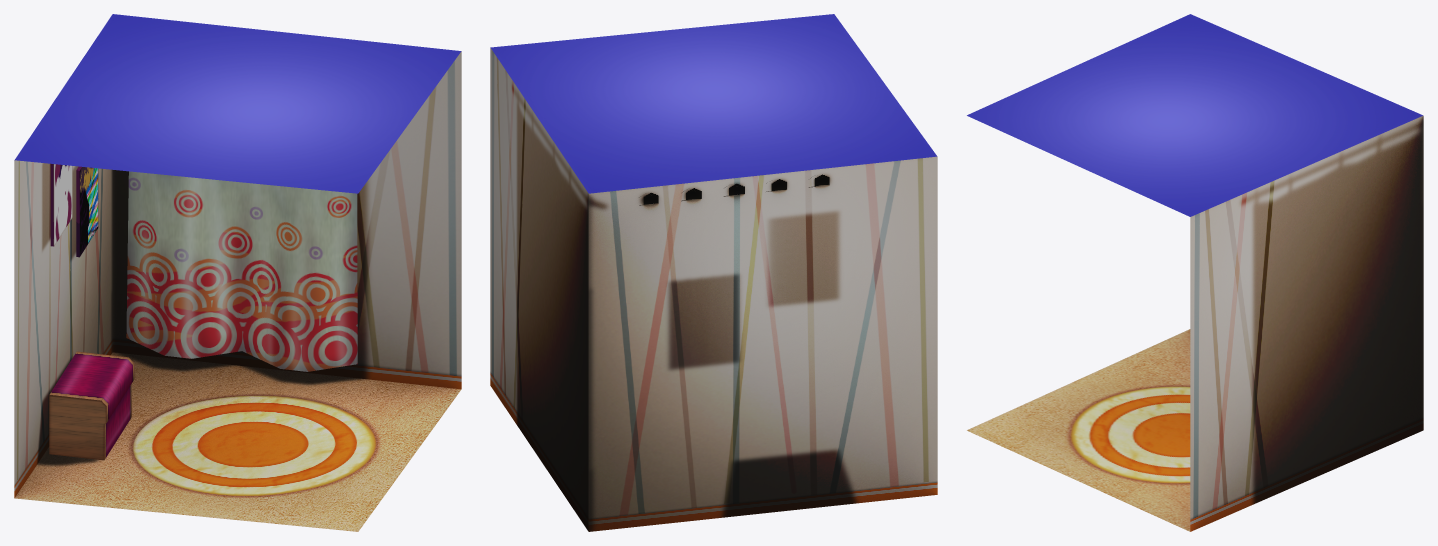
File: fiting room.FBX
3 views of the same model, side by side, from view 1: azimuth 30°, elevation 25°; view 2: azimuth 150°, elevation 25°; view 3: azimuth 270°, elevation 25° (orthographic). The views are drawn at different scales.
Parts seen in each view (by area): view 1: wall, korden; view 2: wall; view 3: wall.
Part boxes in pixels (x1,y1,x2,y2): wall: [14, 14, 461, 531]; korden: [49, 164, 357, 460]; wall: [490, 14, 937, 531]; wall: [967, 14, 1423, 531].
Bounding box in the file's own units: 321 × 232 × 305.
